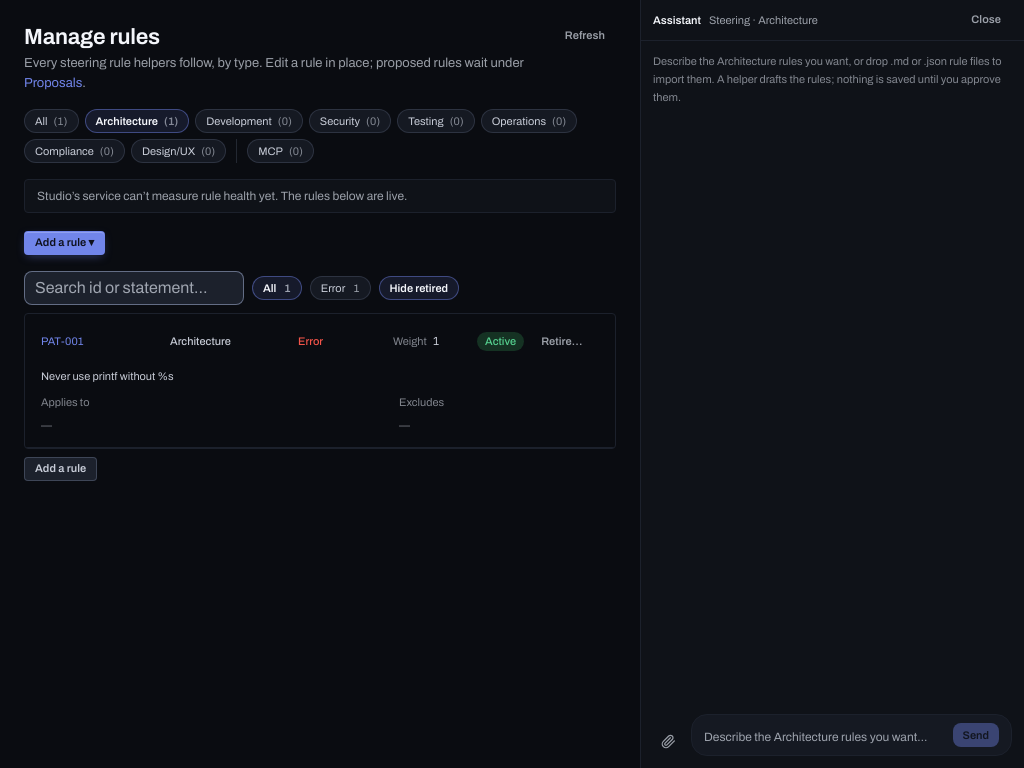
Scenario: SteeringPage — the retire kill switch (opened from the drawer) › stays disarmed until the EXACT rule id is typed AND a reason is given
The width and height of the screenshot is (1024, 768).
Click the button with test id "steering-grid-id" at (92, 341), box [35, 329, 149, 353]
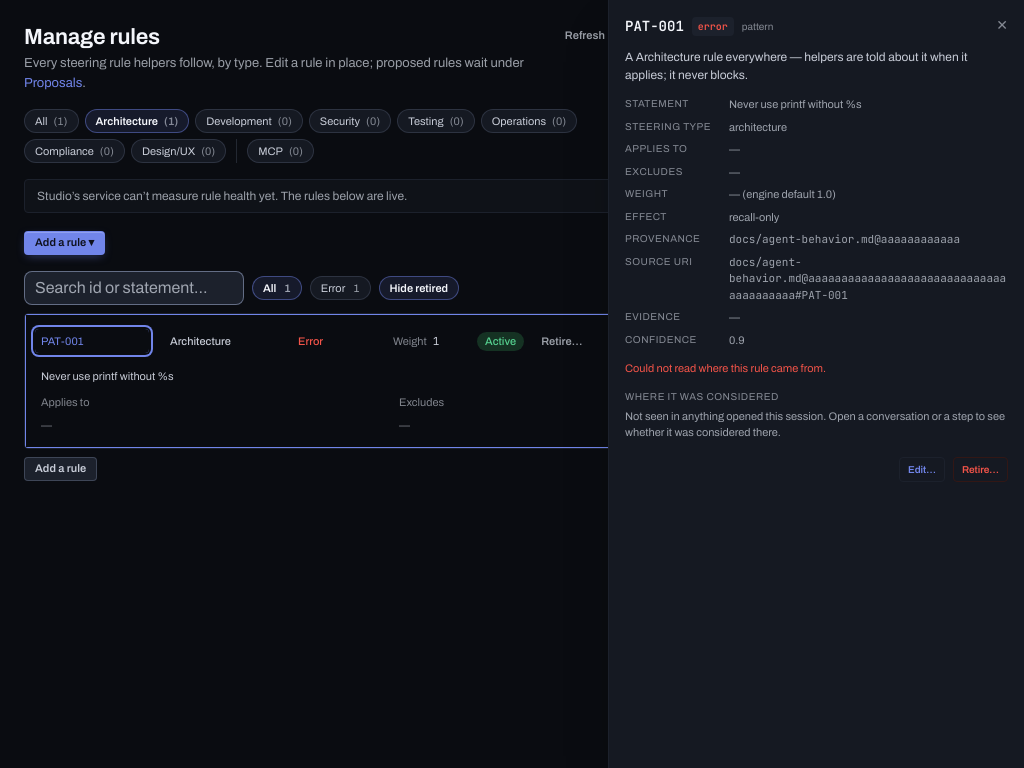
Click the button with test id "steering-retire-open" at (980, 469), box [953, 456, 1008, 482]
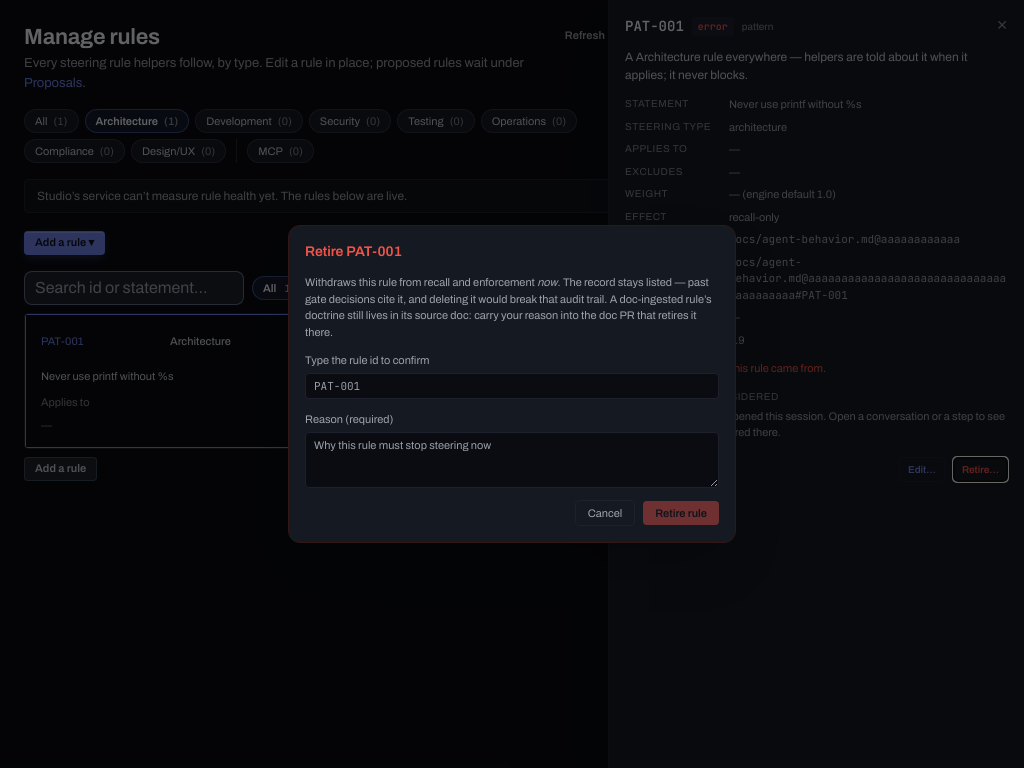
Expected: the dialog with test id "steering-retire-modal" is shown, [288, 225, 736, 543]
Expected: the button with test id "steering-retire-confirm" is disabled, [643, 500, 719, 525]
Type "PAT-00" into the field with test id "steering-retire-confirm-input" at (512, 386), box [305, 372, 719, 399]
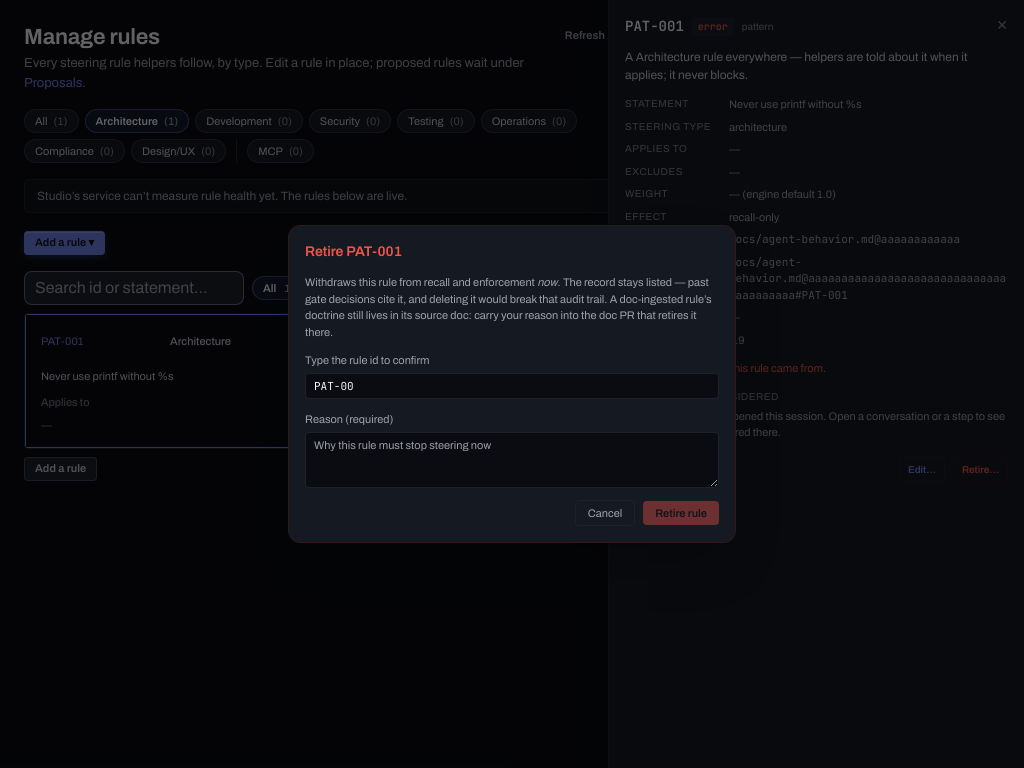
Type "superseded by PAT-050" into the text box with test id "steering-retire-reason" at (512, 460), box [305, 432, 719, 488]
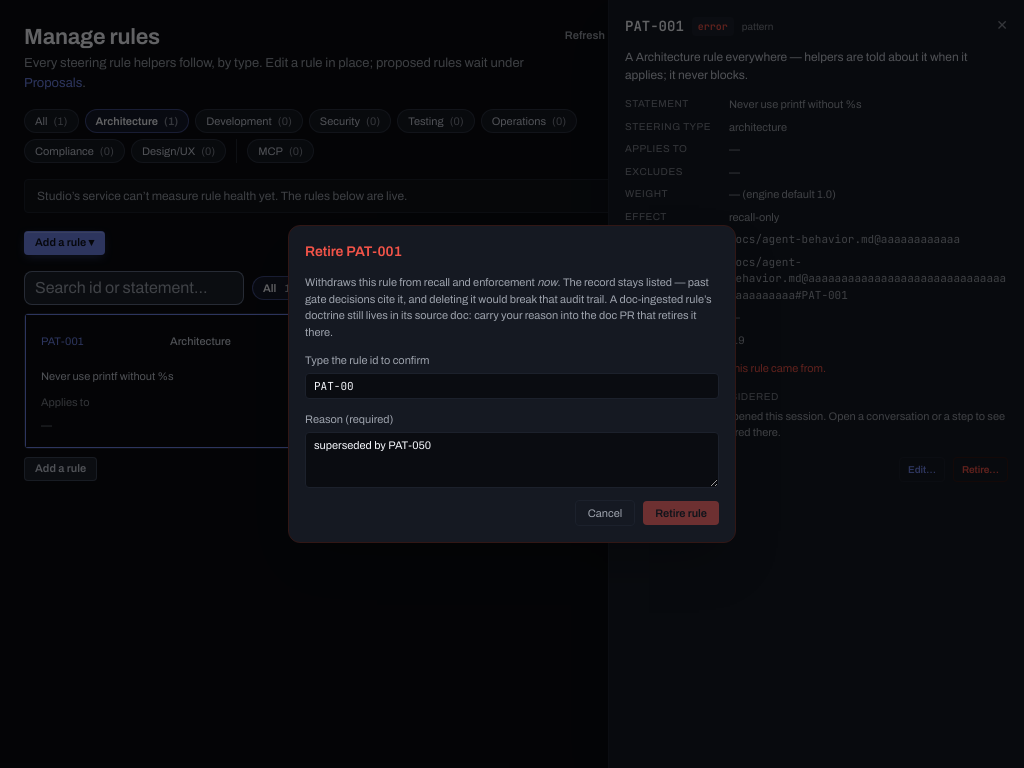
Expected: the button with test id "steering-retire-confirm" is disabled, [643, 500, 719, 525]
Type "1" into the field with test id "steering-retire-confirm-input" at (512, 386), box [305, 372, 719, 399]
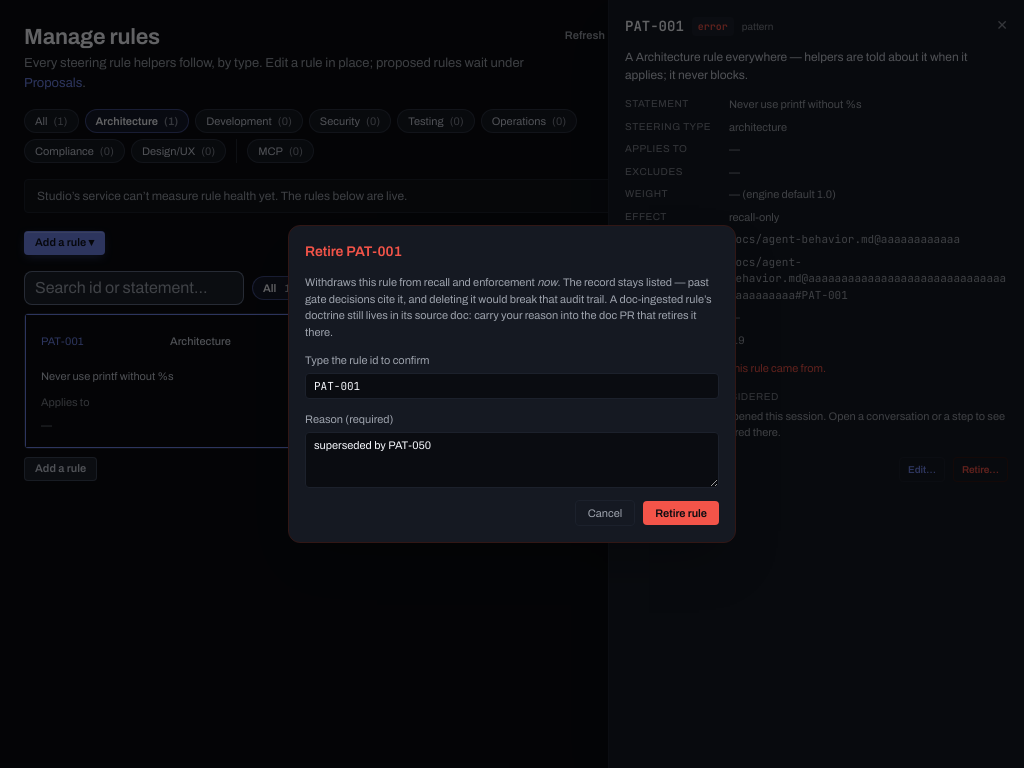
Expected: the button with test id "steering-retire-confirm" is enabled, [643, 500, 719, 525]
